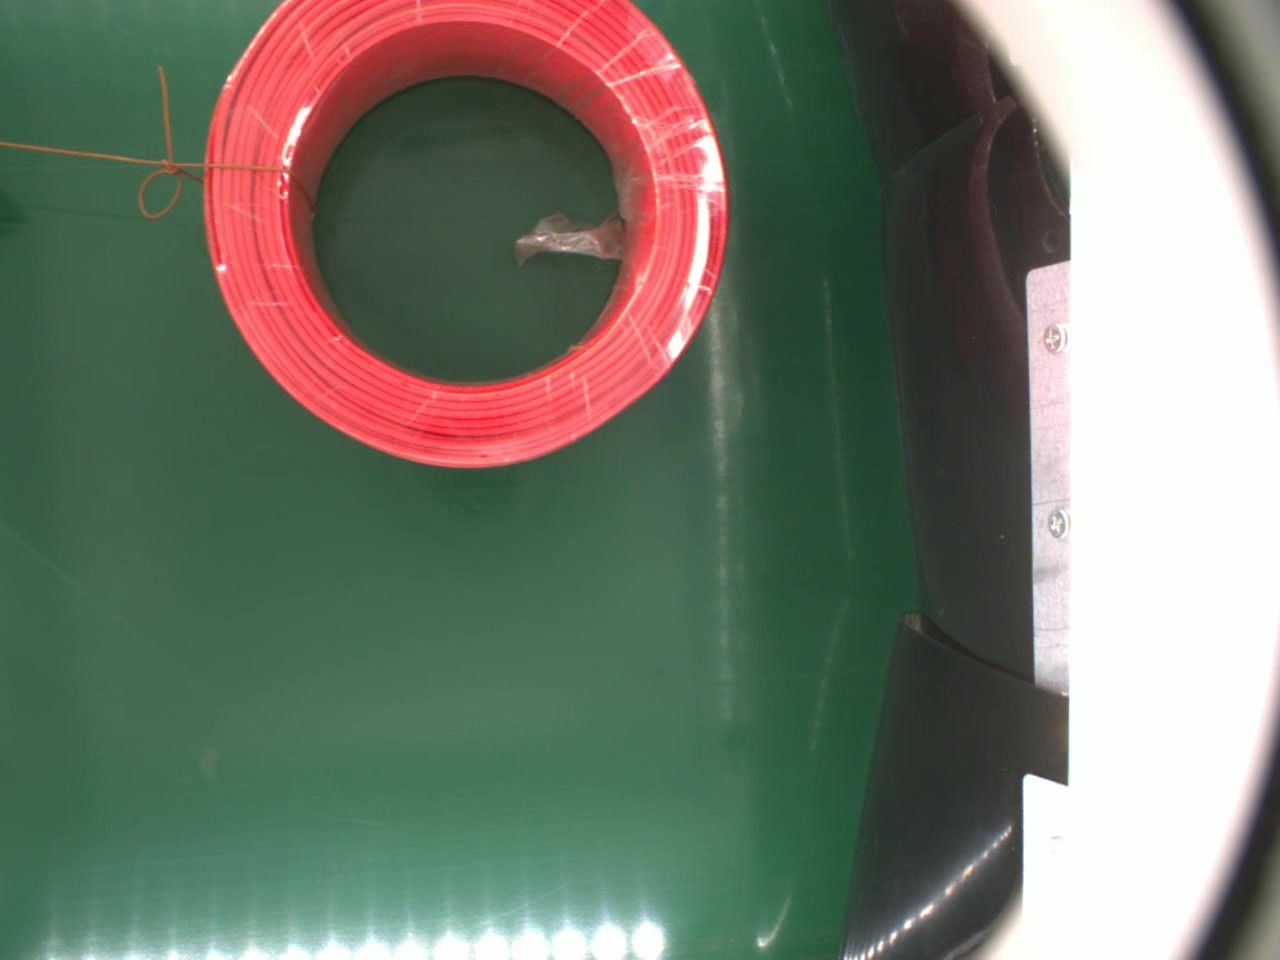red: (199, 0, 734, 473)
